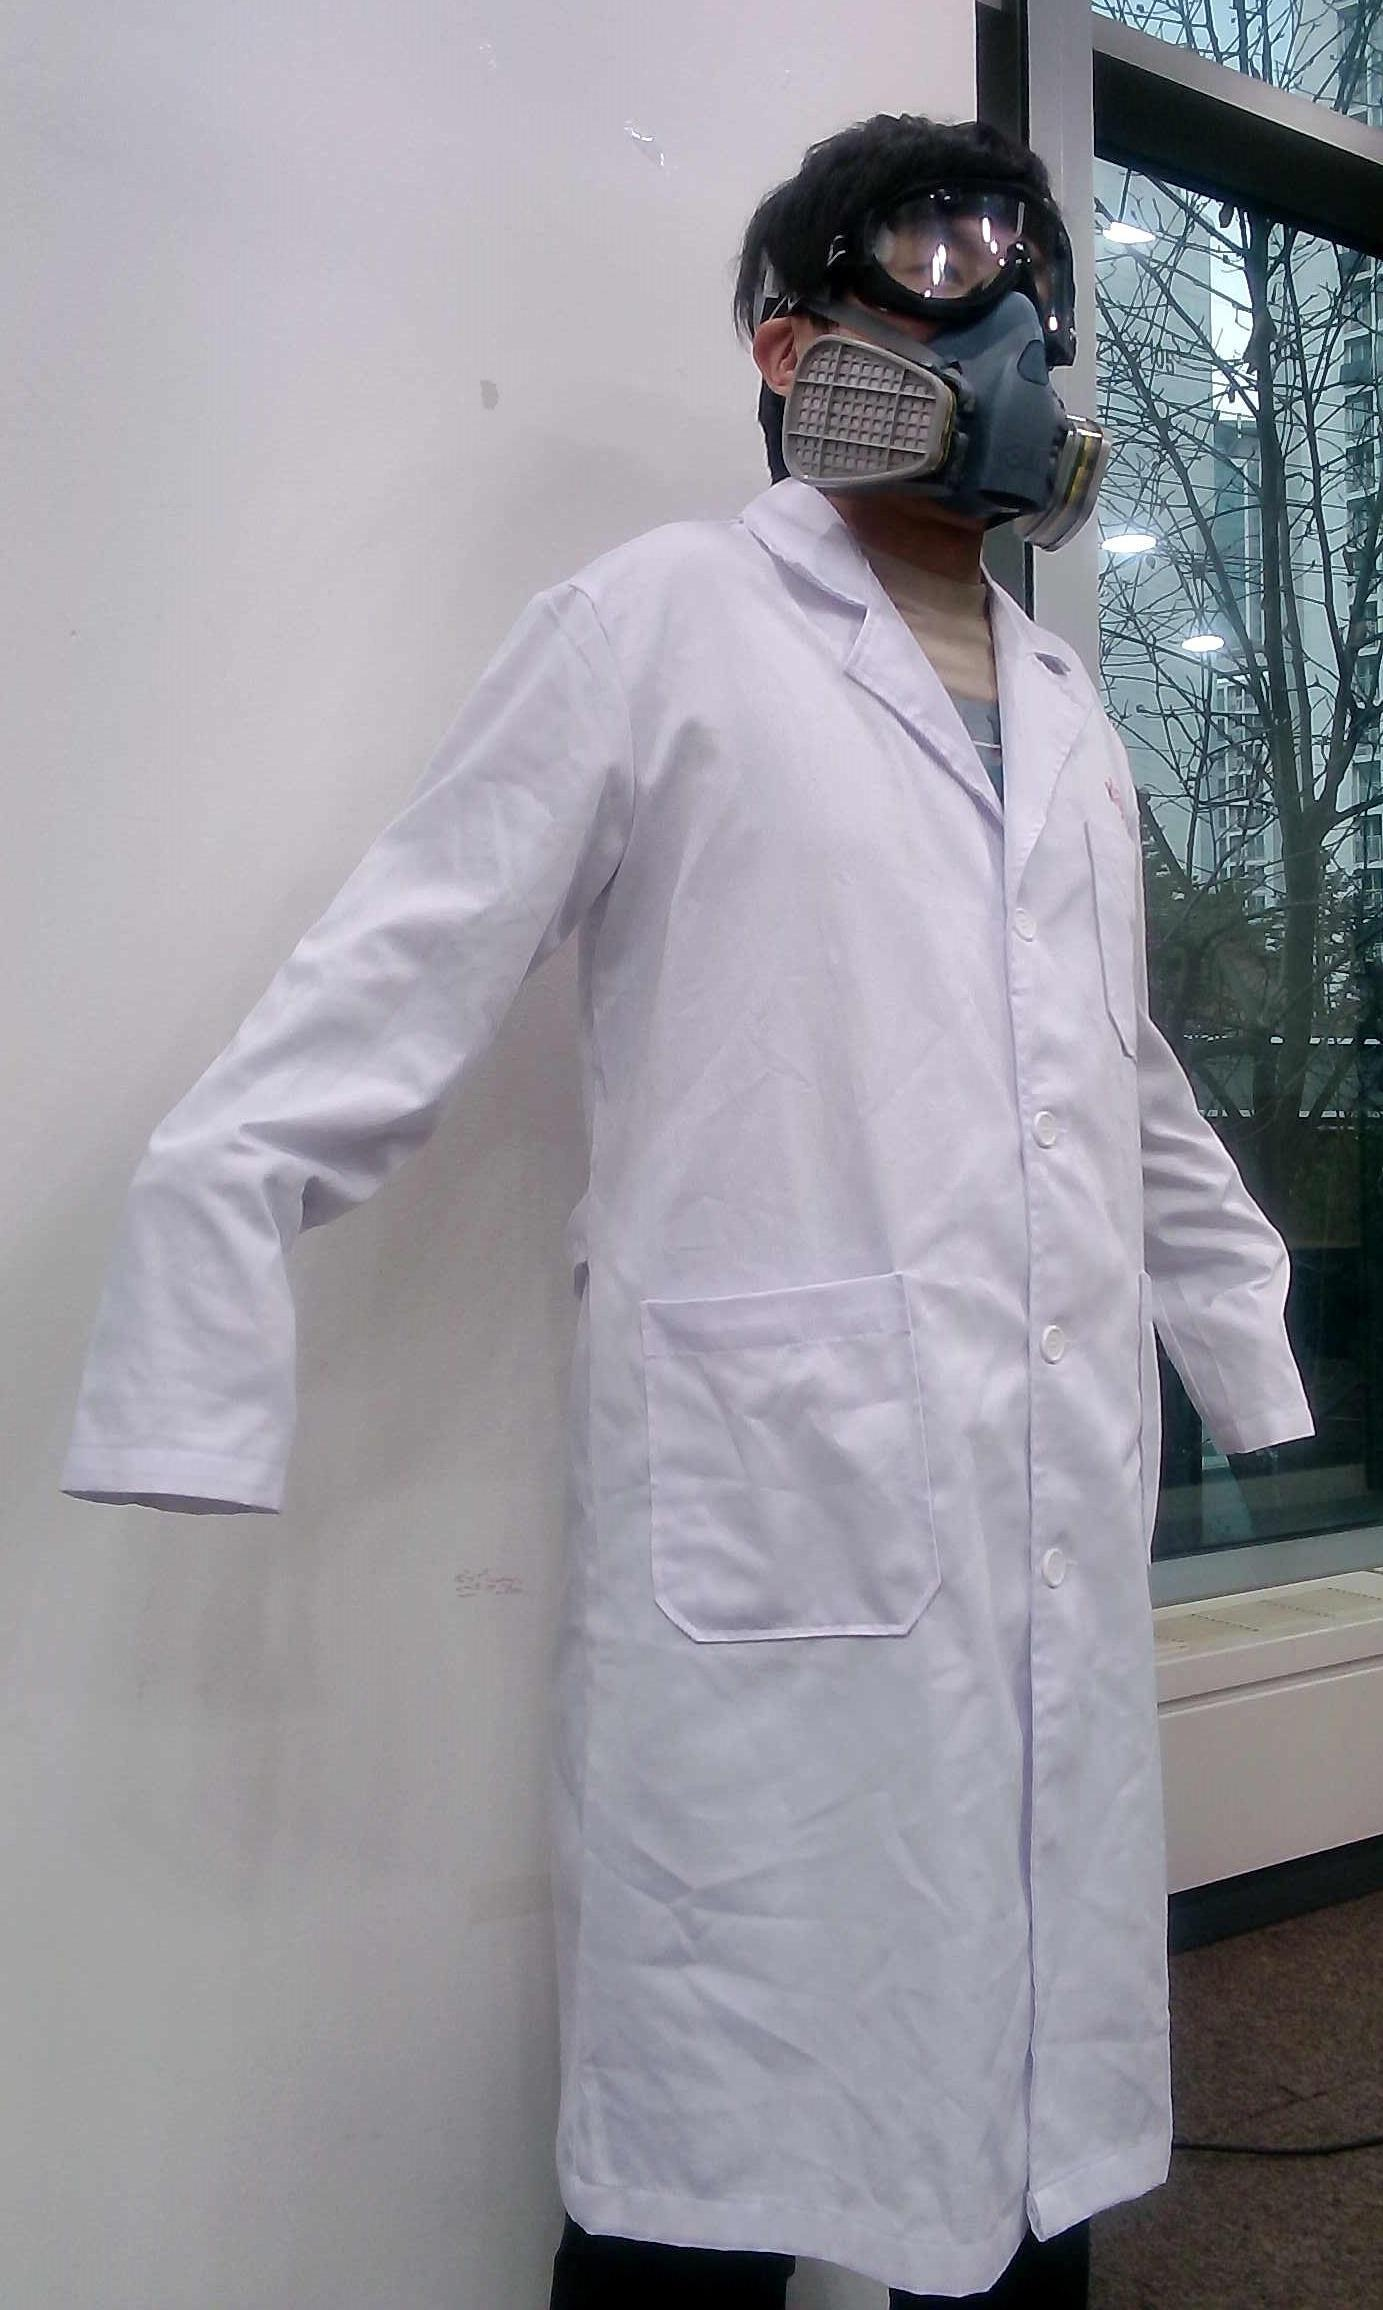lab_coat: (120, 561, 1299, 2256)
